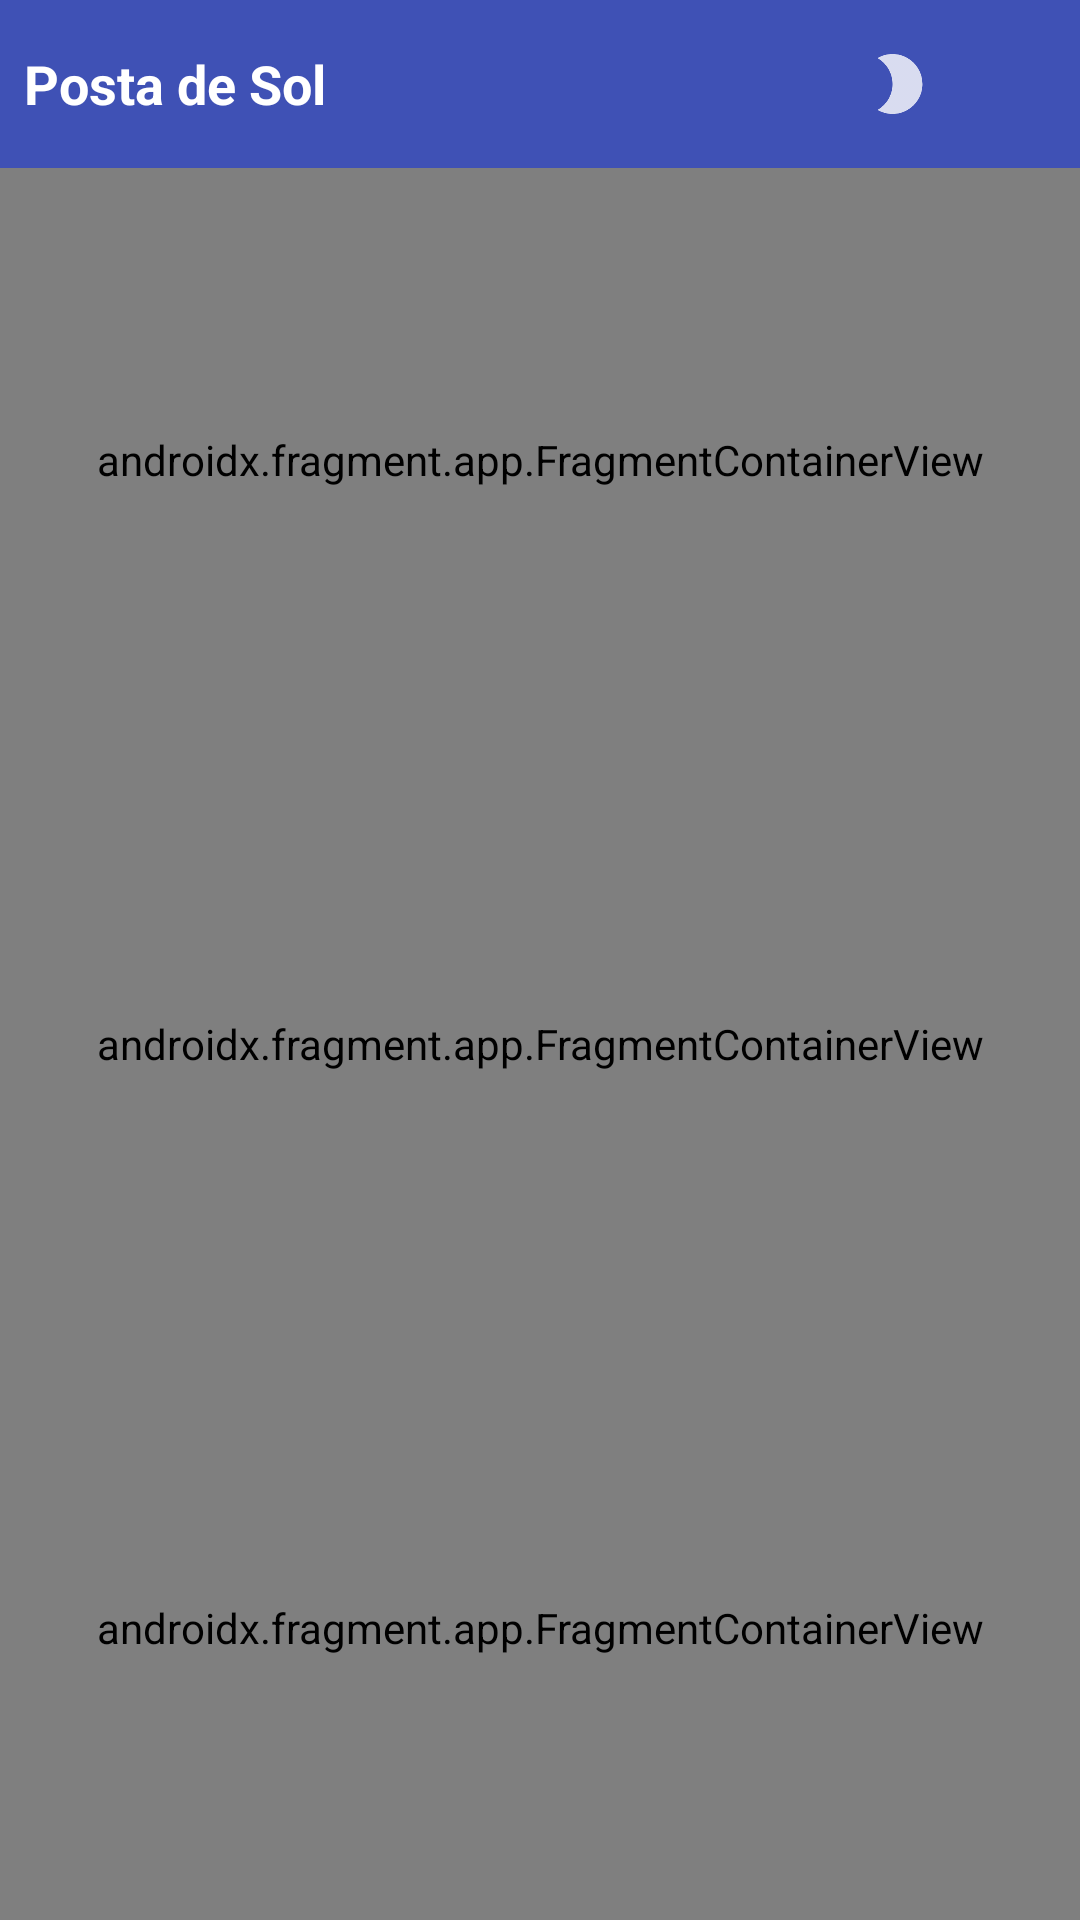

Icon bounding boxes for this 1080 × 1920 phone screenshot, format bbox=[x1, y1, x2, y2]:
Moon Icon: bbox=[878, 54, 923, 114]
